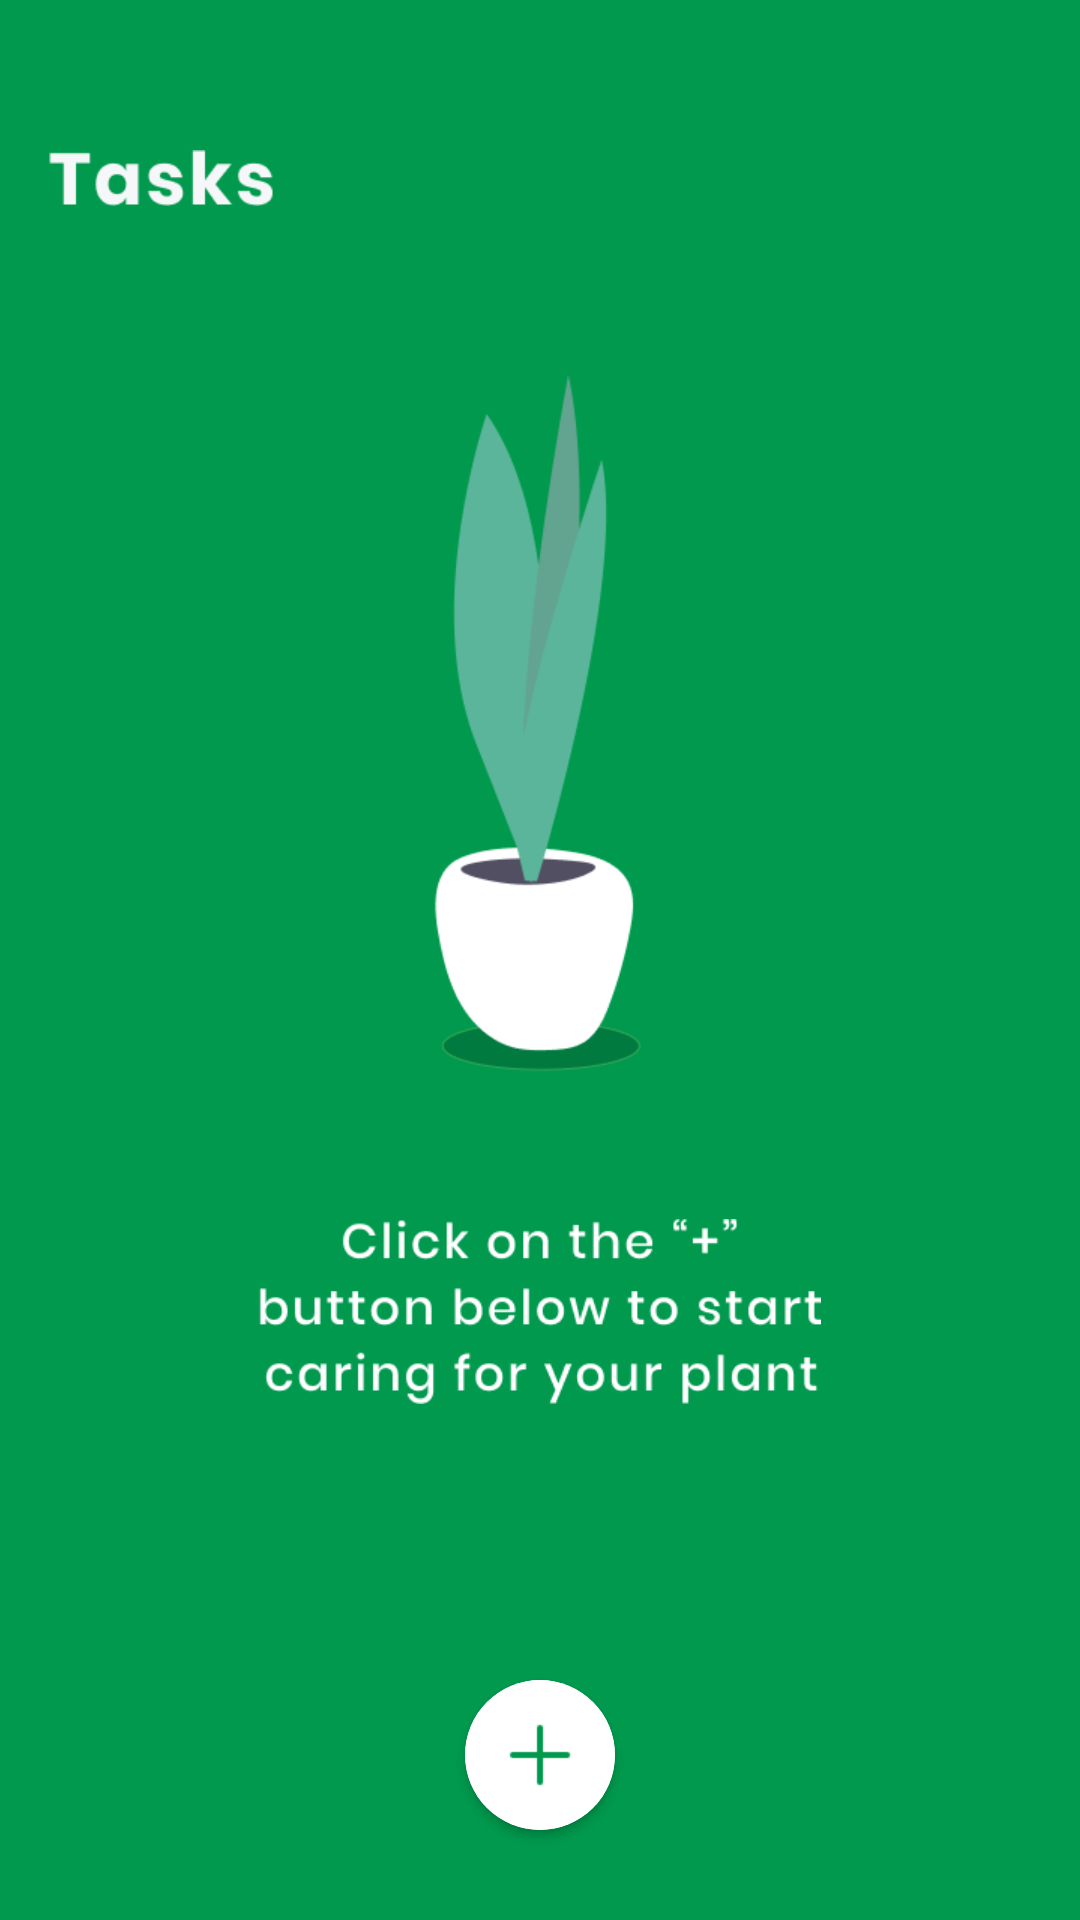

Icons on this 1080 x 1920 Android screen, each with the point to tap as point (x, y):
plus: point (540, 1755)
